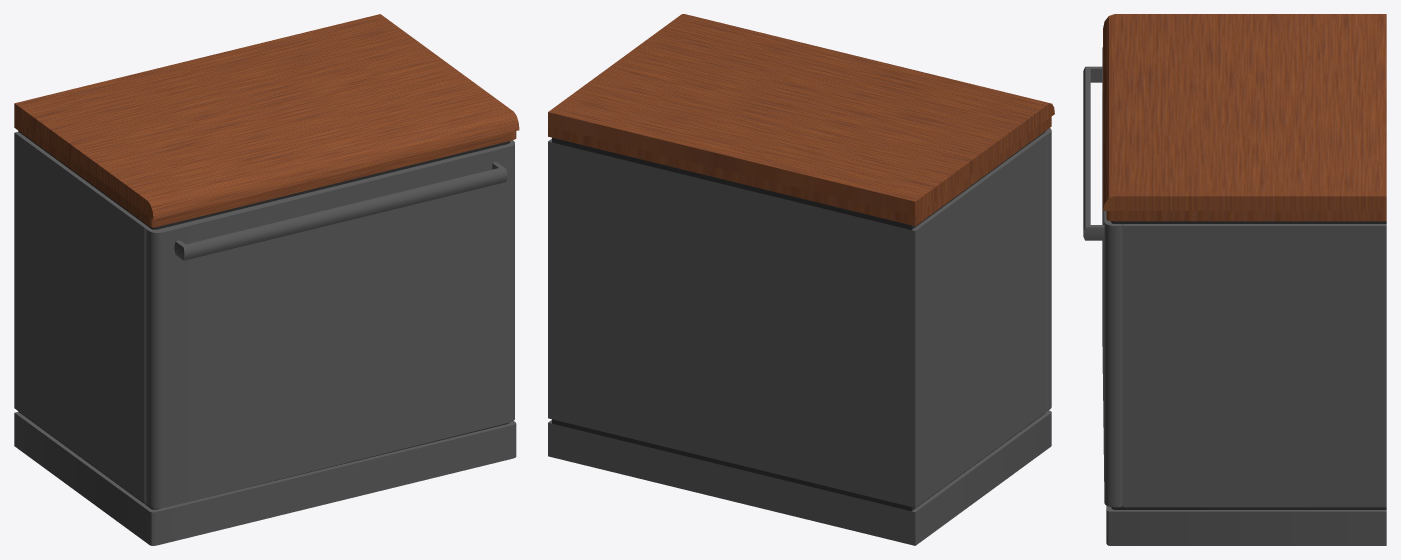
Rendered from Dishwasher.fbx.
The picture shows the model from 3 angles, left to right: view 1: azimuth 30°, elevation 25°; view 2: azimuth 150°, elevation 25°; view 3: azimuth 270°, elevation 25°; orthographic projection. The views are drawn at different scales.
Visible parts, largest first — view 1: Spülmaschine, Dishwash Door; view 2: Spülmaschine, Dishwash Door; view 3: Spülmaschine, Dishwash Door.
Boxes of the visible parts, <box> form: Spülmaschine: <box>14,14,519,545</box>; Dishwash Door: <box>145,140,514,508</box>; Spülmaschine: <box>548,14,1054,545</box>; Dishwash Door: <box>1042,128,1051,411</box>; Spülmaschine: <box>1103,14,1386,545</box>; Dishwash Door: <box>1083,47,1123,507</box>.
Bounding box in the file's own units: 100 × 89.54 × 70.36.
